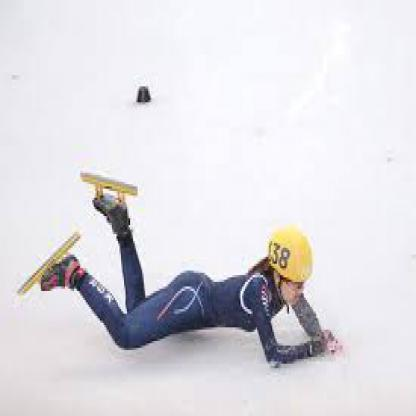Fall_Down: (40, 195, 343, 365)
